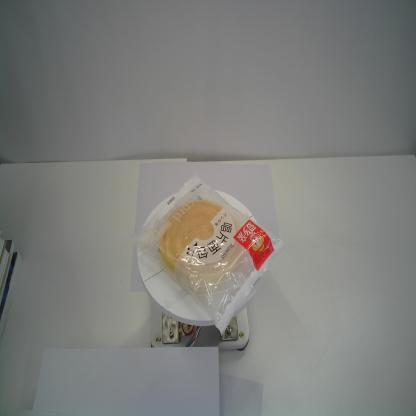Dessert: (130, 168, 287, 338)
